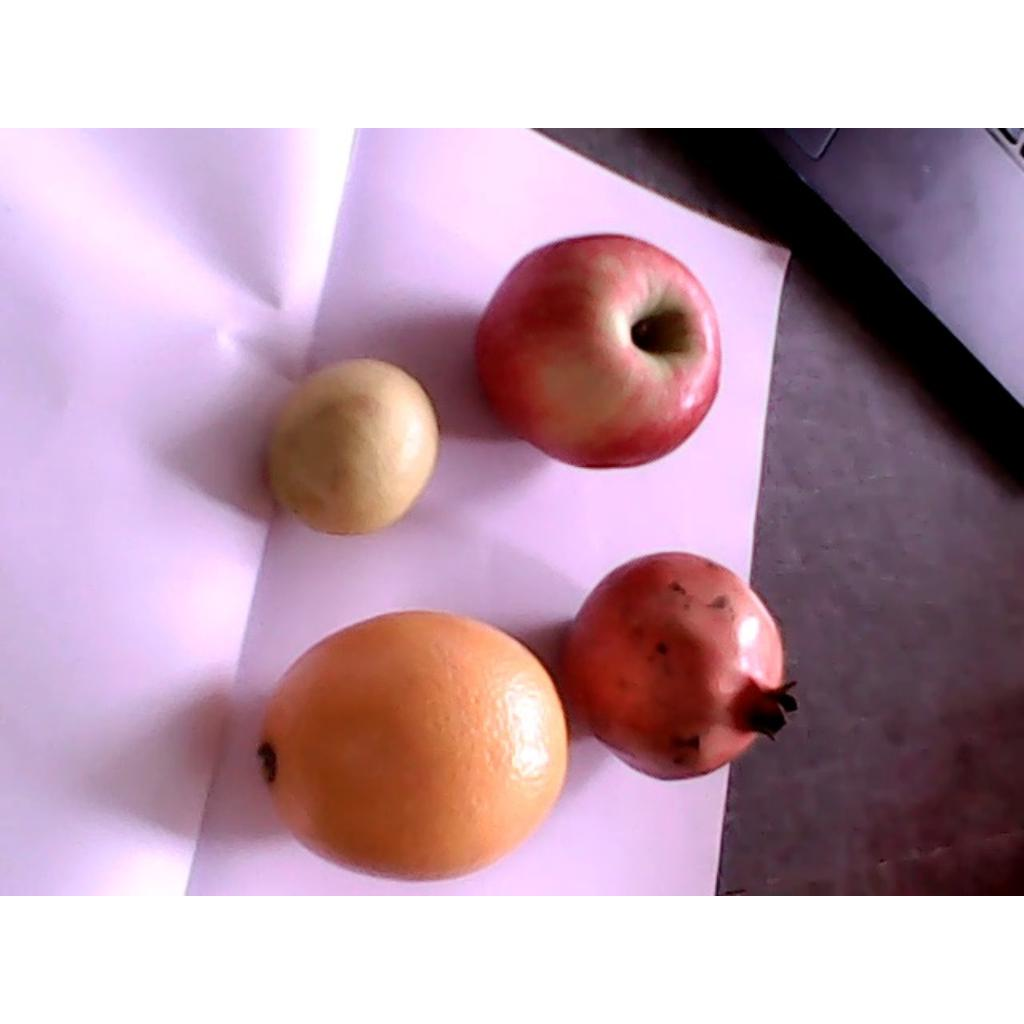apple: (474, 234, 719, 467)
lemon: (271, 356, 438, 535)
orange: (258, 608, 570, 883)
pomegranate: (565, 550, 809, 782)
